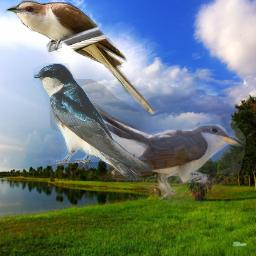Cuckoo: (50, 79, 246, 205), (5, 0, 158, 117)
Swallow: (33, 63, 154, 180)
